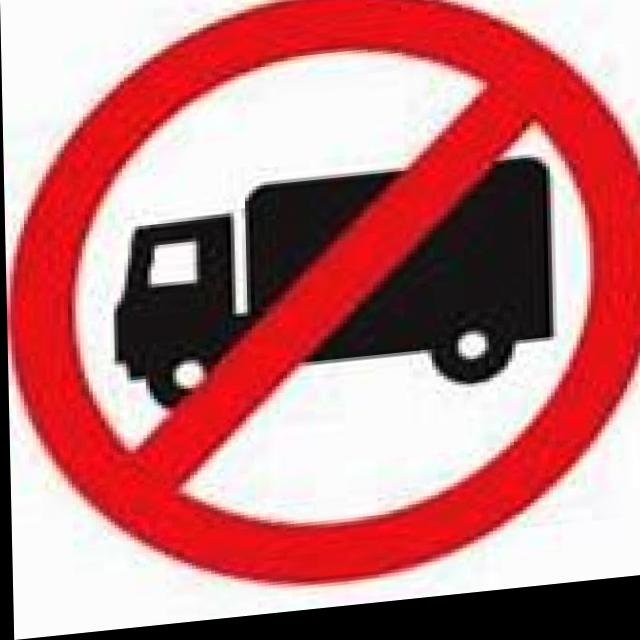TRUCK_PROHIBITED: (0, 0, 640, 626)
